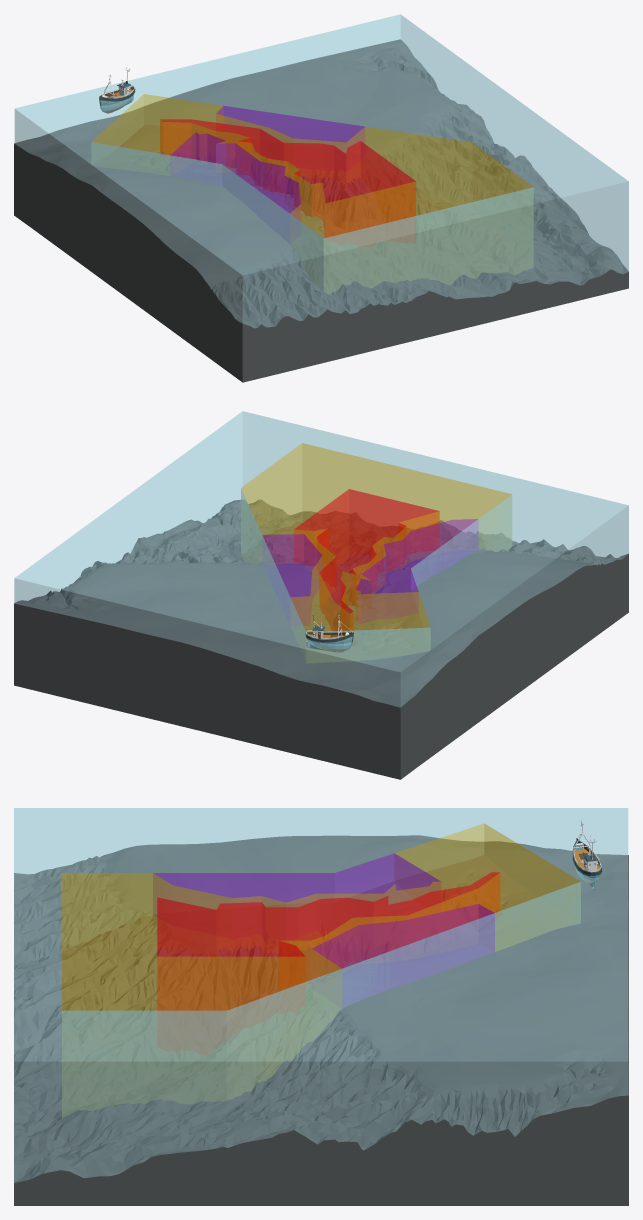
Rendered from MPAzones_mayaexport_03.07.2025.05.glb.
The picture shows the model from 3 angles, top to bottom: view 1: azimuth 30°, elevation 25°; view 2: azimuth 150°, elevation 25°; view 3: azimuth 270°, elevation 25°; orthographic projection. The views are drawn at different scales.
Parts seen in each view (by area): view 1: map_lowpoly, outersquare, ZONE_2, ZONE_1, ZONE_3; view 2: map_lowpoly, outersquare, ZONE_2, ZONE_1, ZONE_3, polySurface31; view 3: map_lowpoly, outersquare, ZONE_2, ZONE_1, ZONE_3, polySurface31.
Boxes of the visible parts, <box> form: map_lowpoly: <box>14,39,628,382</box>; outersquare: <box>14,14,628,327</box>; ZONE_2: <box>92,94,532,293</box>; ZONE_1: <box>160,119,415,237</box>; ZONE_3: <box>171,106,364,243</box>; map_lowpoly: <box>14,499,628,779</box>; outersquare: <box>14,411,628,707</box>; ZONE_2: <box>241,443,511,662</box>; ZONE_1: <box>294,489,439,630</box>; ZONE_3: <box>262,519,478,625</box>; polySurface31: <box>305,632,352,651</box>; map_lowpoly: <box>14,835,628,1205</box>; outersquare: <box>14,808,628,1182</box>; ZONE_2: <box>62,823,580,1117</box>; ZONE_1: <box>157,872,499,1010</box>; ZONE_3: <box>153,853,494,1004</box>; polySurface31: <box>572,839,602,883</box>.
Size of what is drawn, in the model's own units: 0.2402 by 0.0811 by 0.246.
